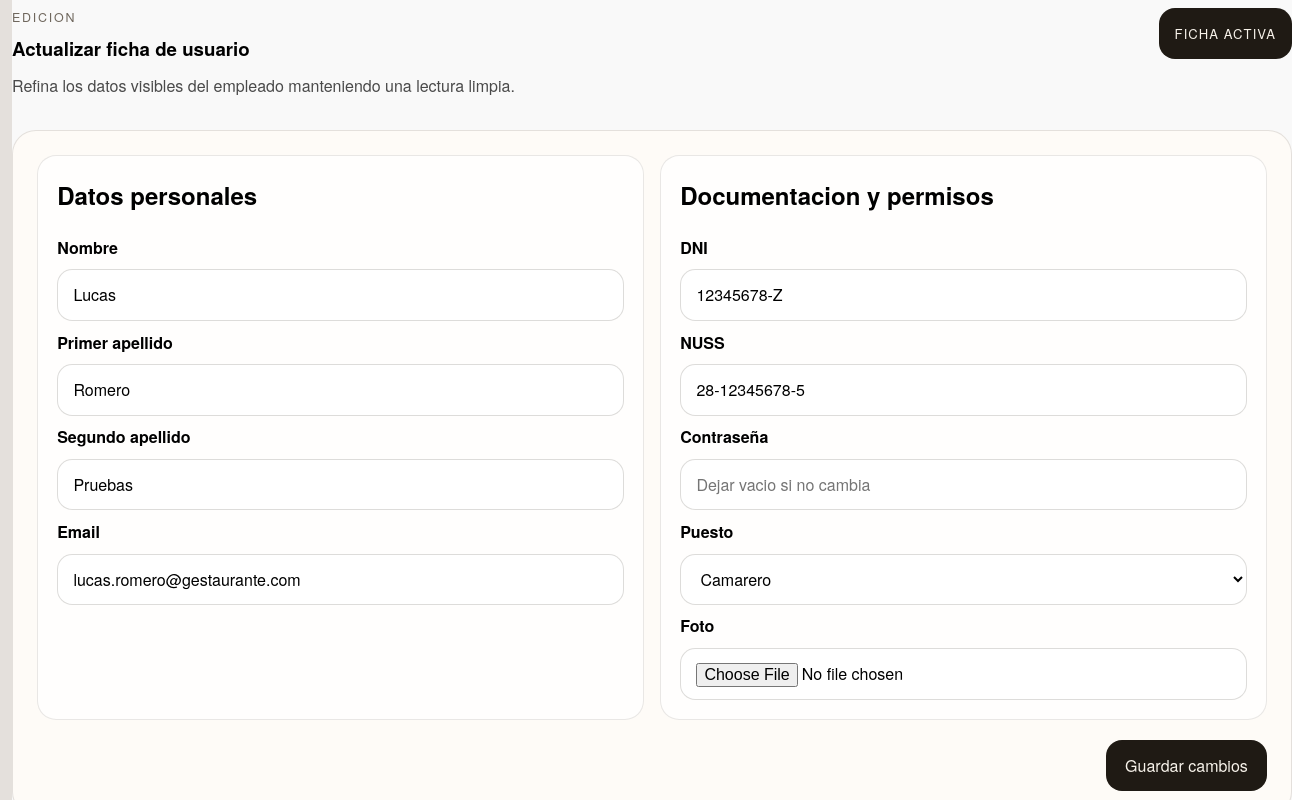
it: EditUser › submits the canonical employee payload and propagates the saved user
Replace the text in the field labelled "Nombre" with "Lucas Editado" at point(340, 295), box 57,269 -> 624,321
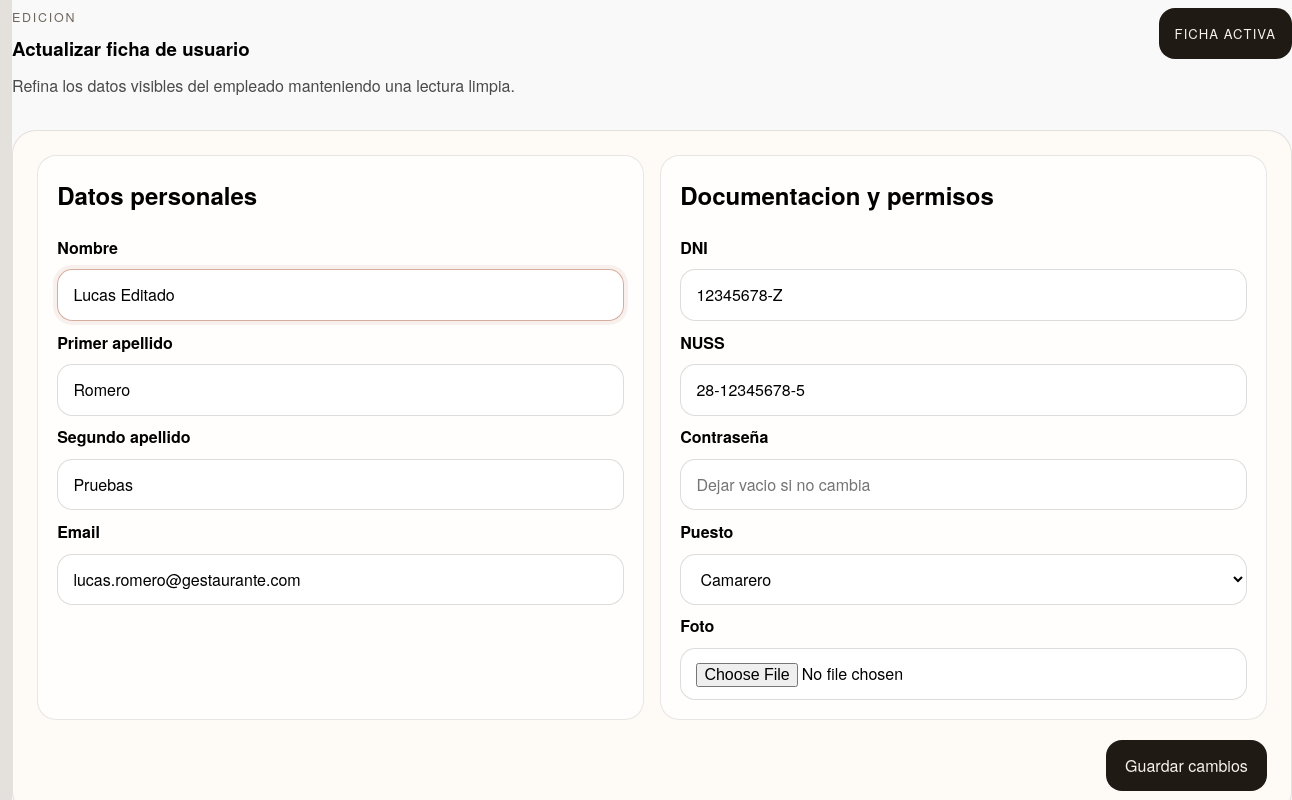
Replace the text in the field labelled "Email" with "lucas.editado@gestaurante.com" at point(340, 579), box 57,554 -> 624,605
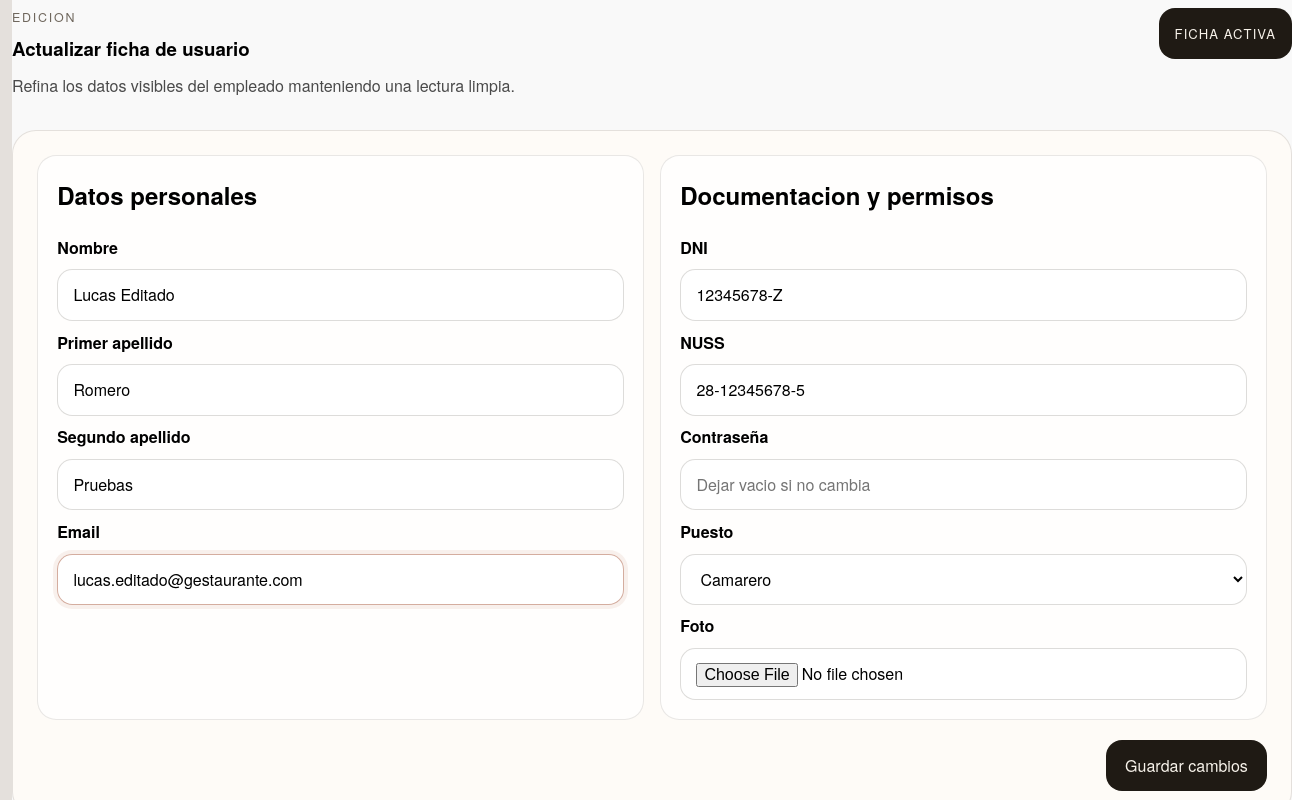
Select "Repartidor" in the dropdown labelled "Puesto" at point(964, 579), box 680,554 -> 1247,605
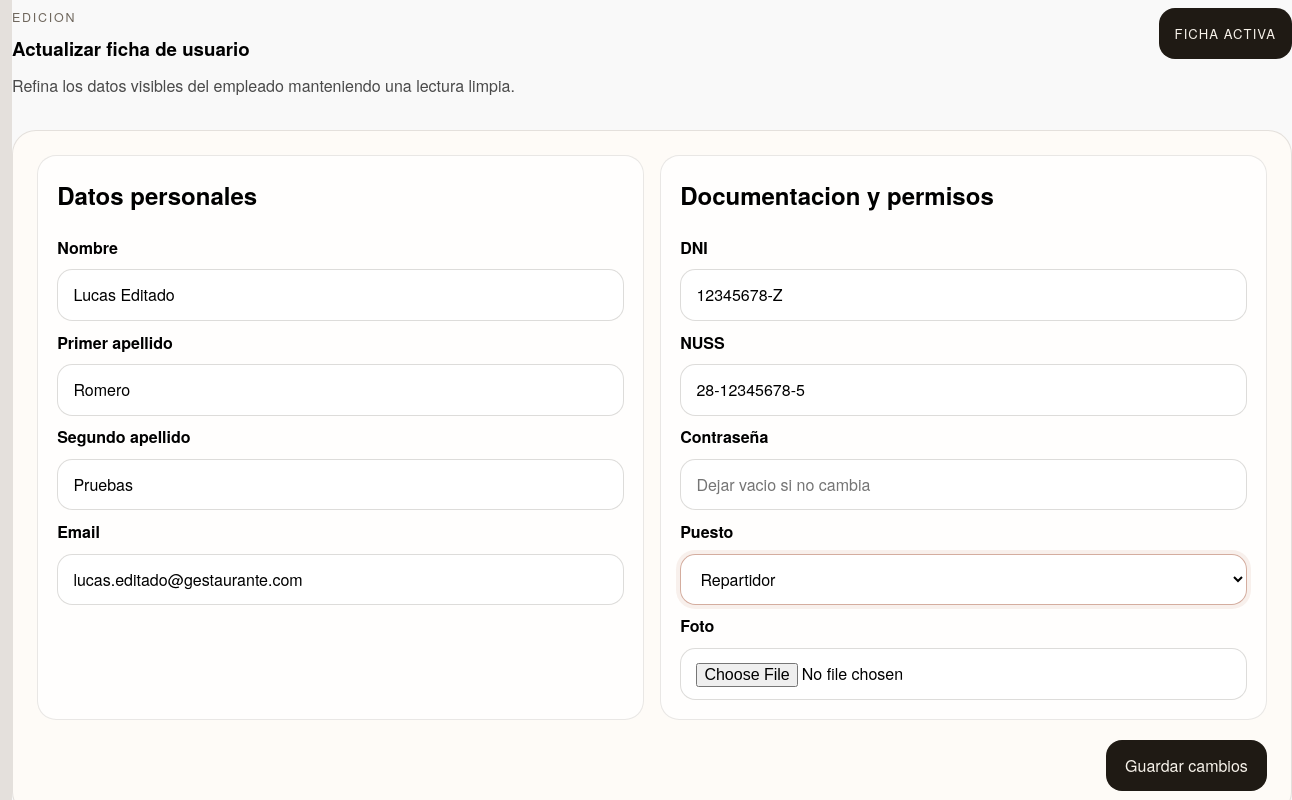
Click the button "Guardar cambios".
click(1186, 766)  # box 1106,740 -> 1267,791
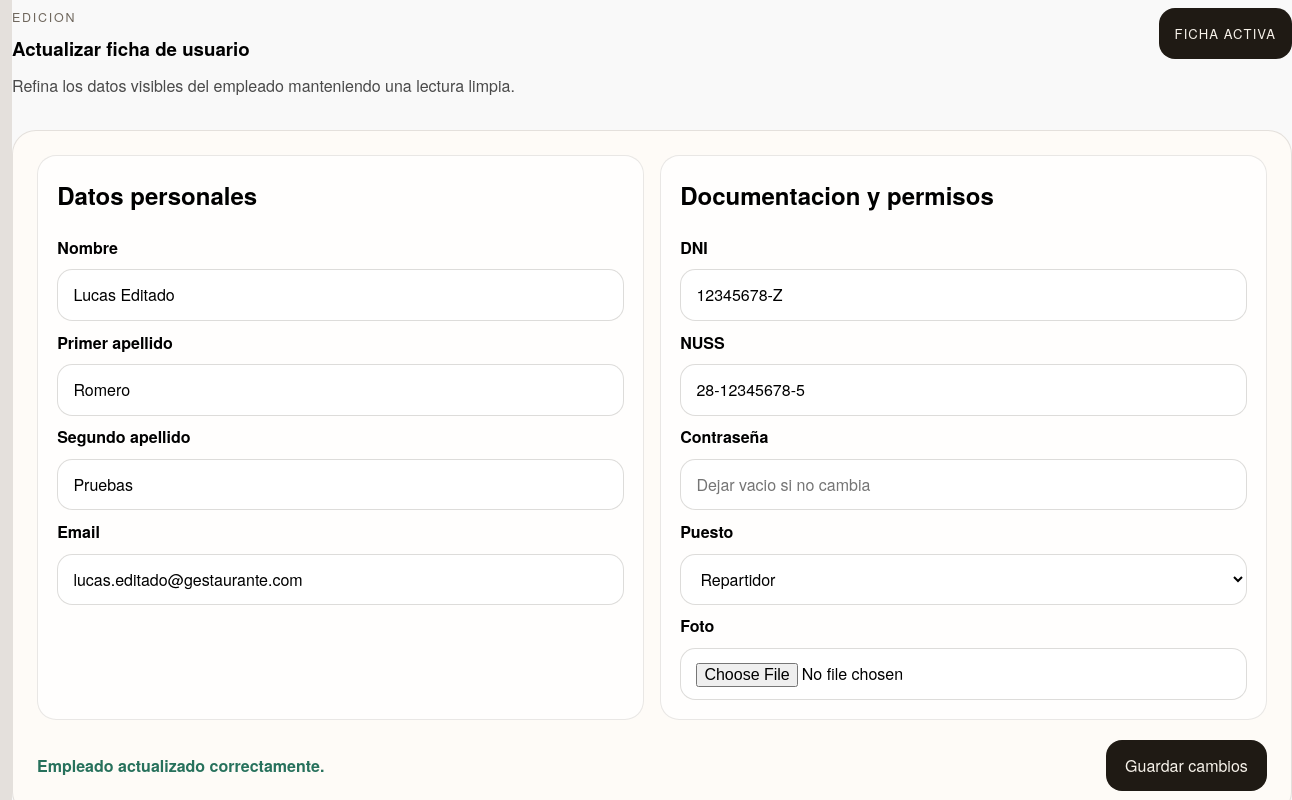
Expected: the text "Empleado actualizado correctamente." is shown, 37,754 -> 324,777
